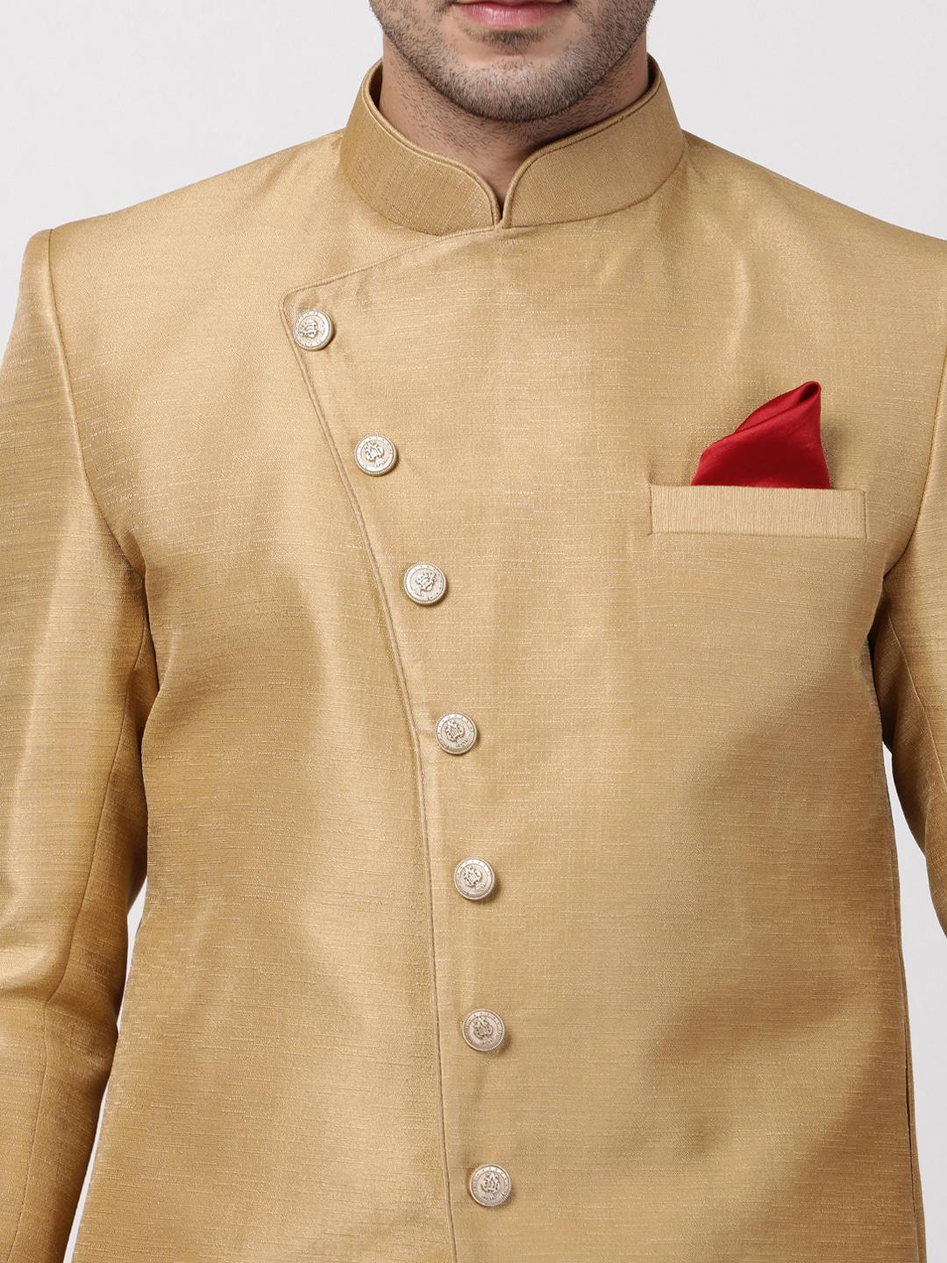Plain Sherwani: (0, 53, 945, 1262)
